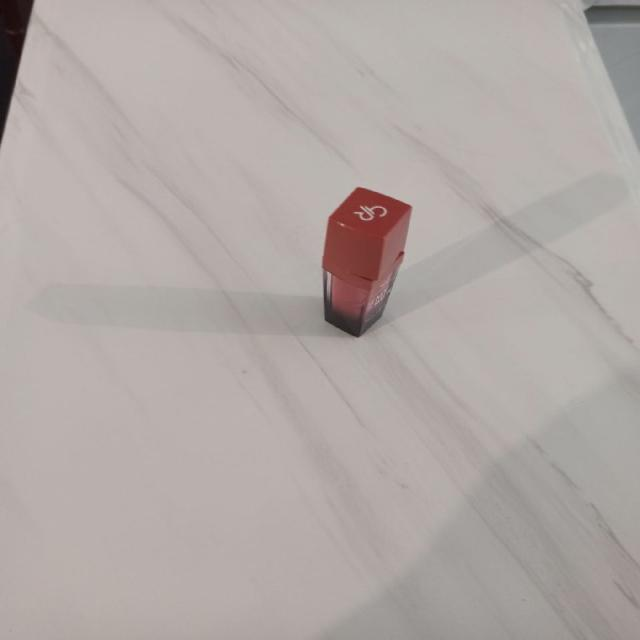lipstick: (321, 185, 412, 338)
